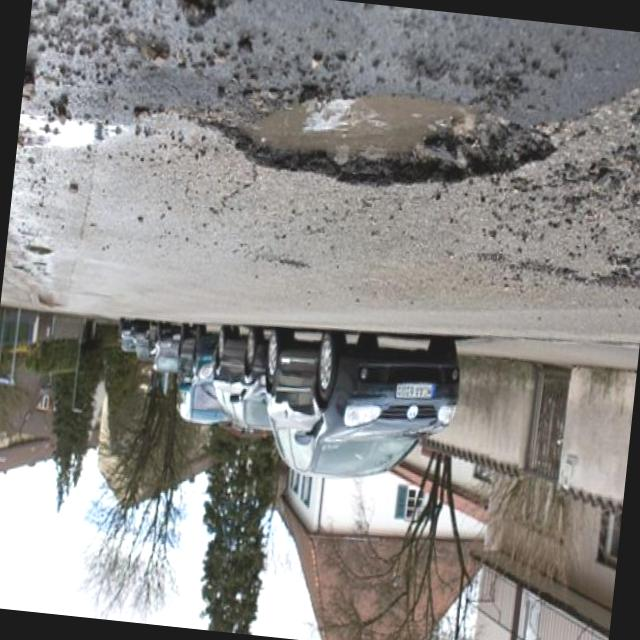pothole: (186, 68, 569, 218)
